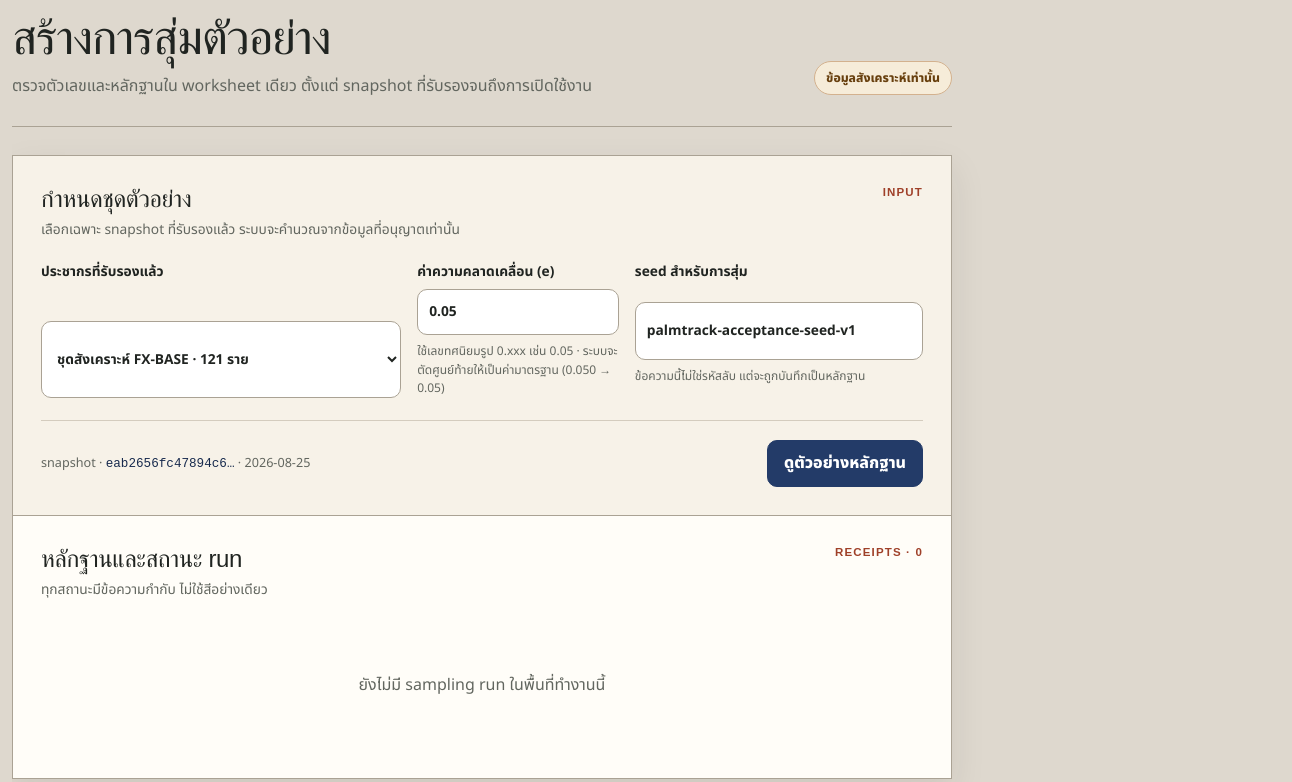
Test: SamplingWorkbench › previews Yamane and allocation evidence from the selected inputs
Click the button "ดูตัวอย่างหลักฐาน" at (845, 463), box [767,440,923,487]
(page scrolled)
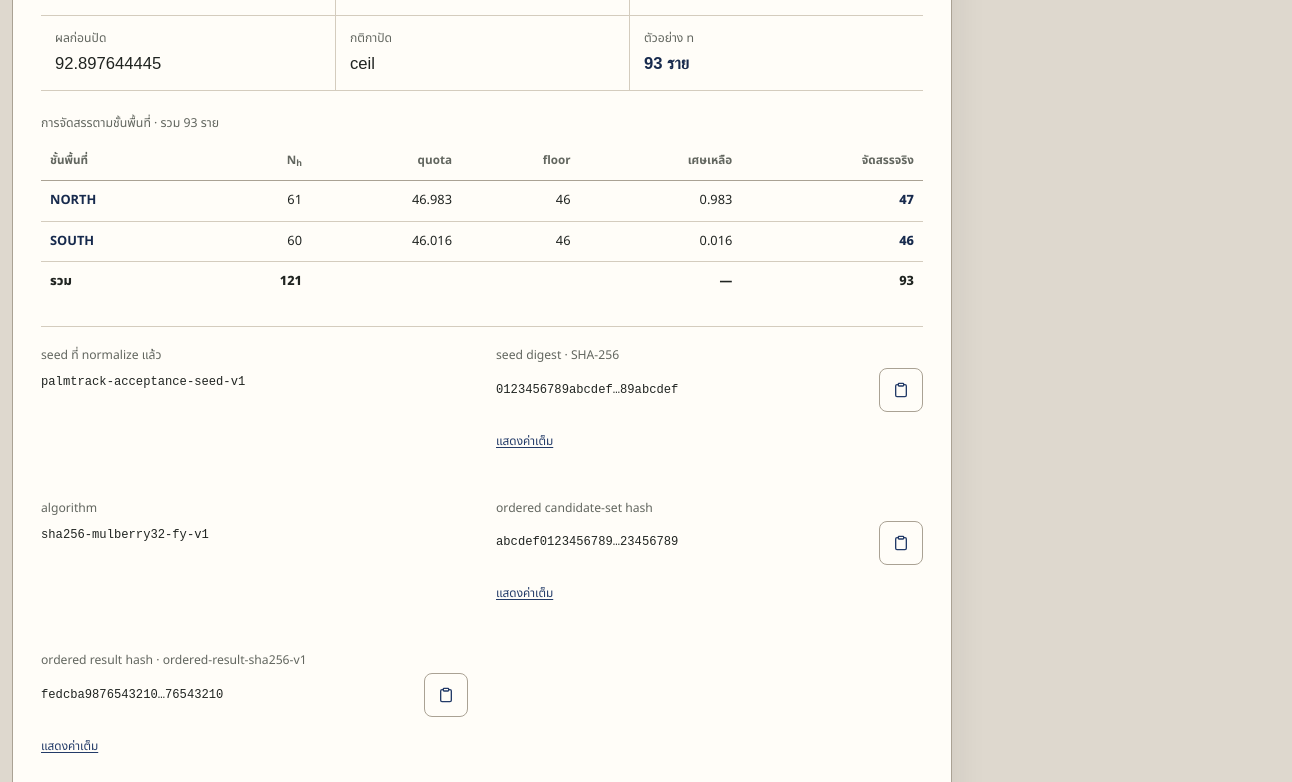
Expected: the text "92.897644445" is shown, [55,54,161,73]
Expected: the text "การจัดสรรตามชั้นพื้นที่ · รวม 93 ราย" is shown, [41,114,219,133]
Expected: the column heading "quota" is shown, [311,142,461,180]
